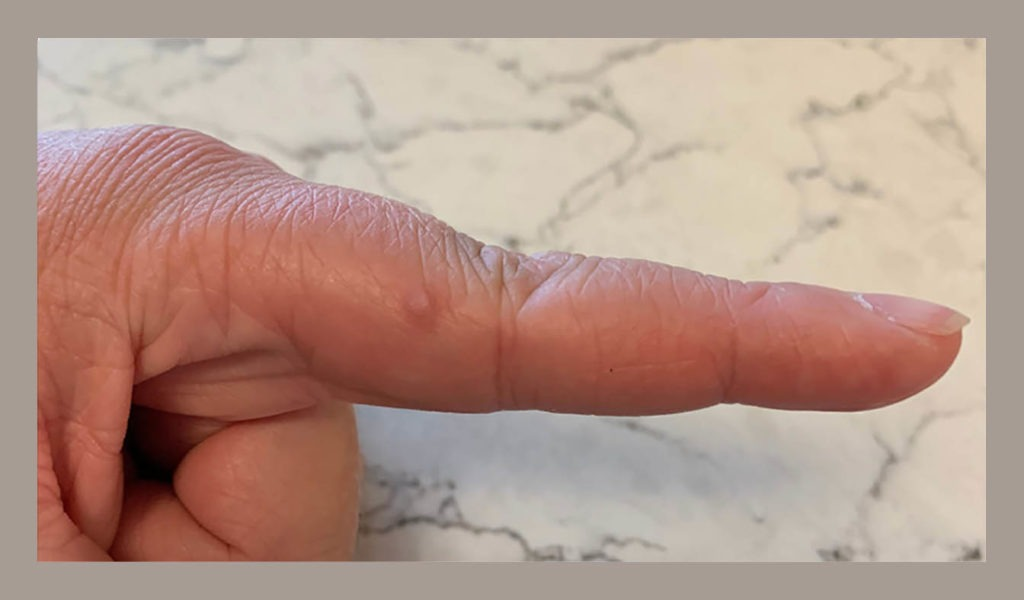Warts: (387, 264, 468, 344)
